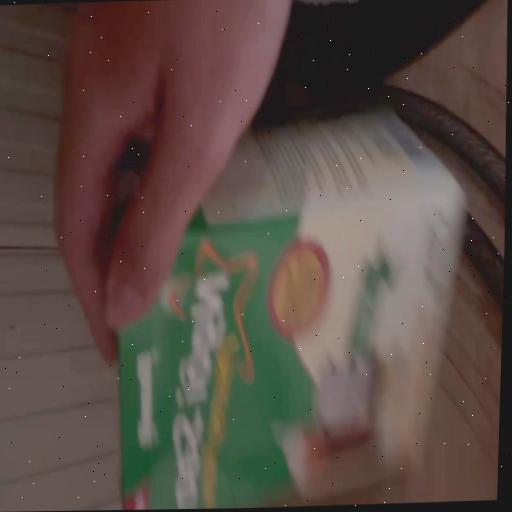ly_giay: (120, 112, 465, 510)
